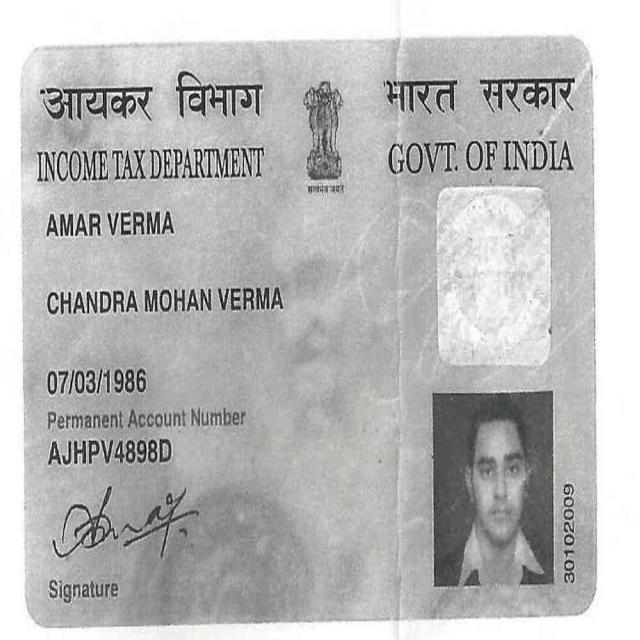pan_card: (21, 48, 584, 612)
